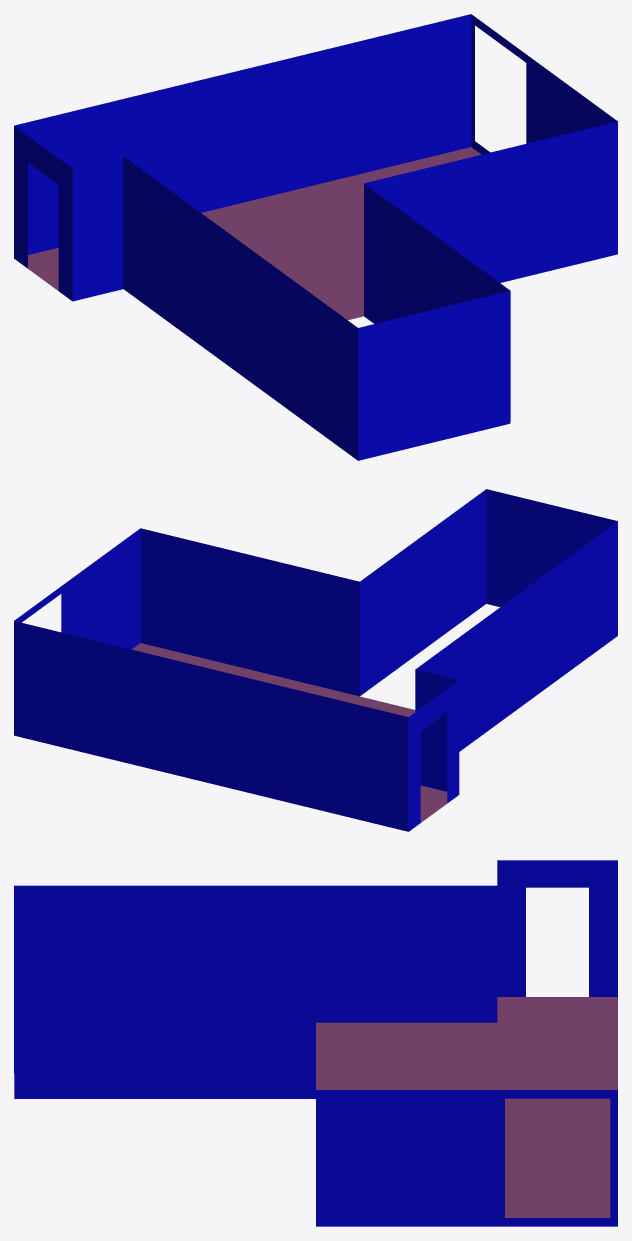
Rendered from pisoA.fbx.
3 views of the same model, one above another, from view 1: azimuth 30°, elevation 25°; view 2: azimuth 150°, elevation 25°; view 3: azimuth 270°, elevation 25° (orthographic). The views are drawn at different scales.
Parts seen in each view (by area): view 1: MainStructure1; view 2: MainStructure1; view 3: MainStructure1.
Part boxes in pixels (box(x1,y1,x2,y2)): MainStructure1: box(14, 14, 617, 460); MainStructure1: box(14, 489, 617, 831); MainStructure1: box(14, 860, 617, 1226).
Bounding box in the file's own units: 18 × 5 × 20.
